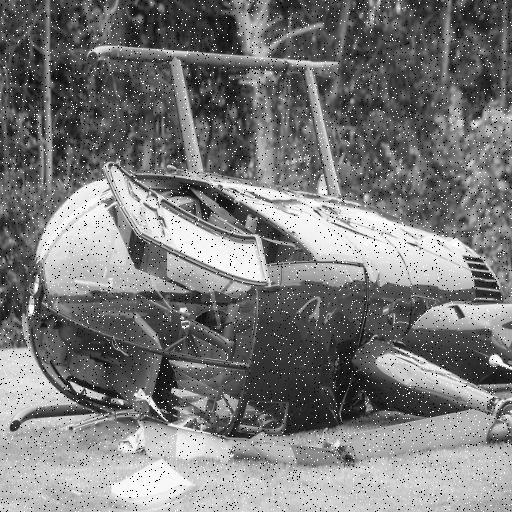helicopter: (7, 39, 512, 470)
